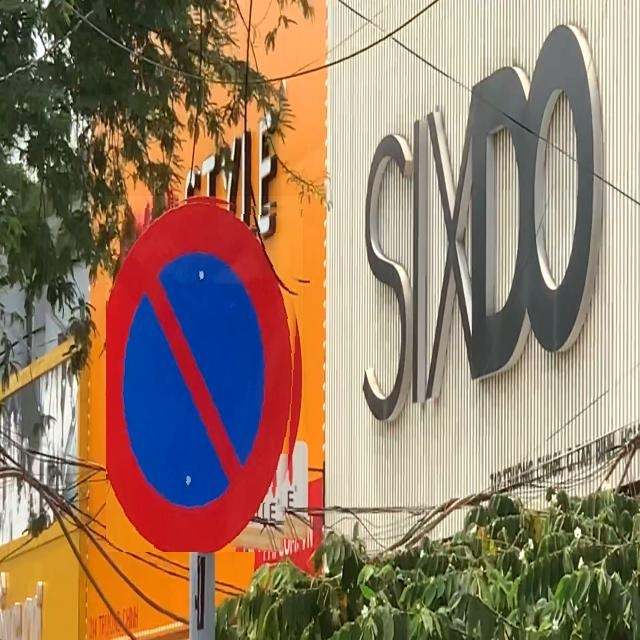bien_cam: (106, 196, 303, 552)
